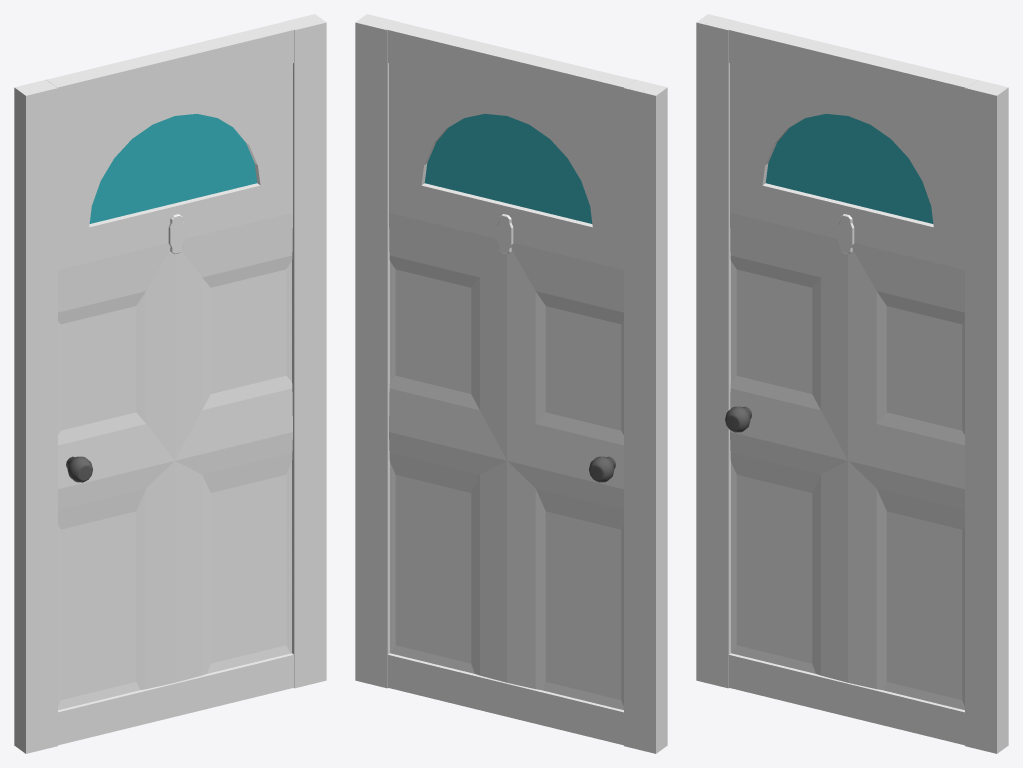
File: Mesh_Door_06.FBX
3 renders of one model, left to right at view 1: azimuth 30°, elevation 25°; view 2: azimuth 150°, elevation 25°; view 3: azimuth 330°, elevation 25°, orthographic.
Visible parts, largest first — view 1: Mesh_Door_06; view 2: Mesh_Door_06; view 3: Mesh_Door_06.
Boxes of the visible parts, x1,y1,x2,y2 form: Mesh_Door_06: [14, 14, 326, 753]; Mesh_Door_06: [355, 14, 667, 753]; Mesh_Door_06: [696, 14, 1008, 753].
Size of the model in its own units: 94.09 by 197 by 19.06.
